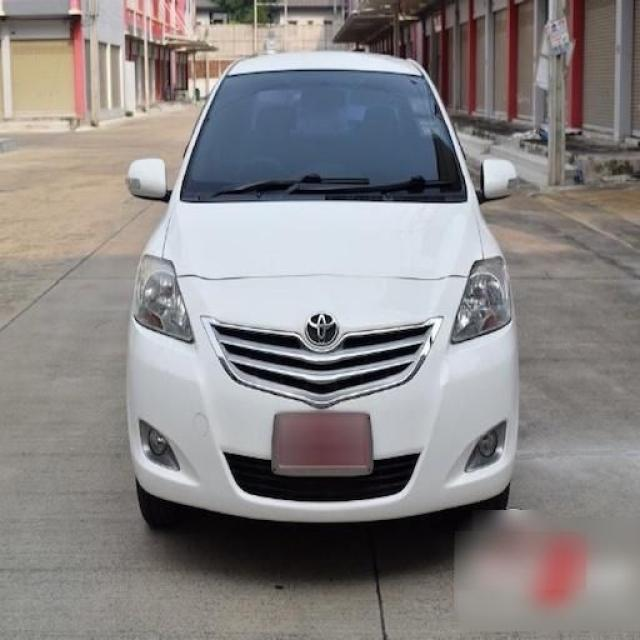front_bumper: (126, 274, 519, 523)
front_glass: (179, 70, 466, 204)
front_left_light: (449, 257, 513, 346)
front_right_light: (133, 254, 194, 341)
hood: (160, 201, 485, 280)
left_mirror: (476, 160, 518, 203)
right_mirror: (125, 159, 172, 205)
